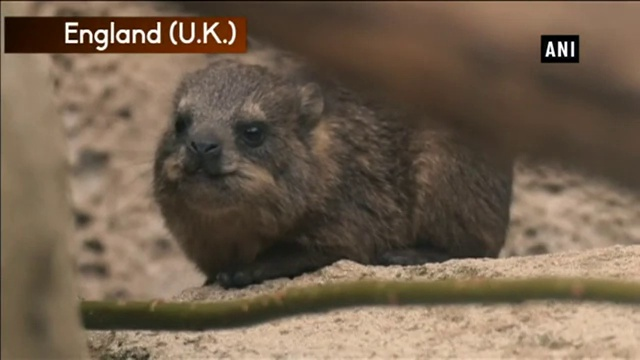Rock Hyrex: (154, 56, 512, 288)
